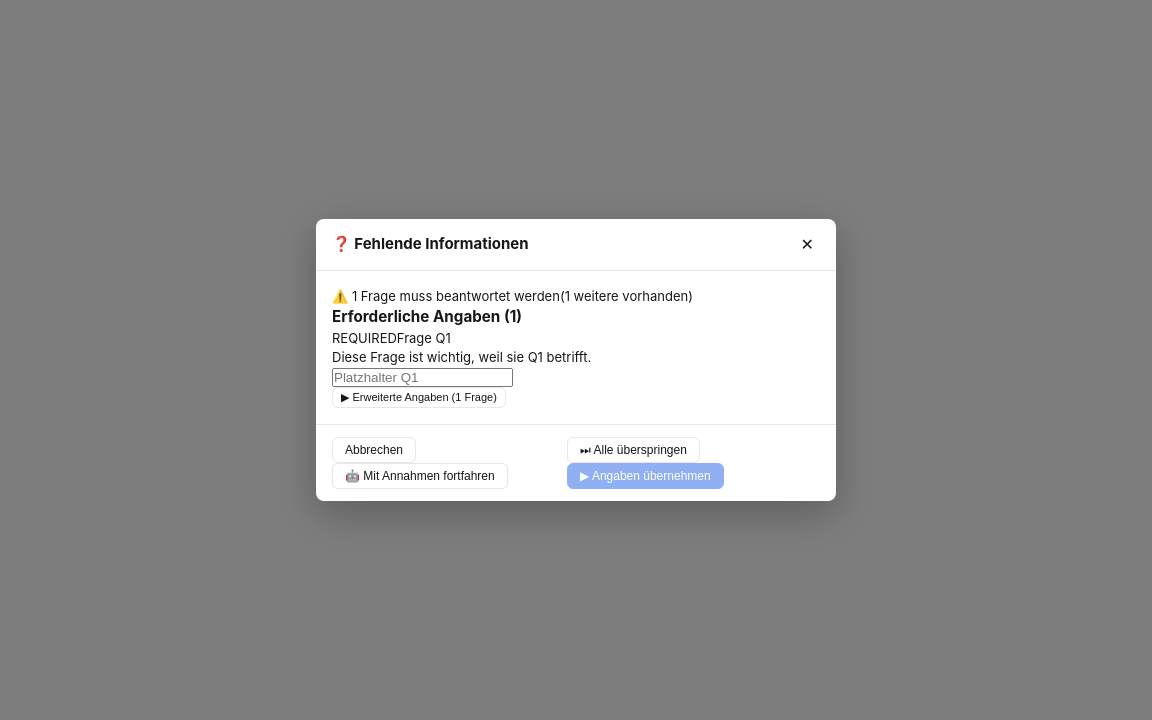
Scenario: MissingInfoGate › rendering › renders RECOMMENDED items under advanced section
Toggle it open
Click the button with test id "gate-toggle-advanced" at (419, 398), box [332,387,506,408]
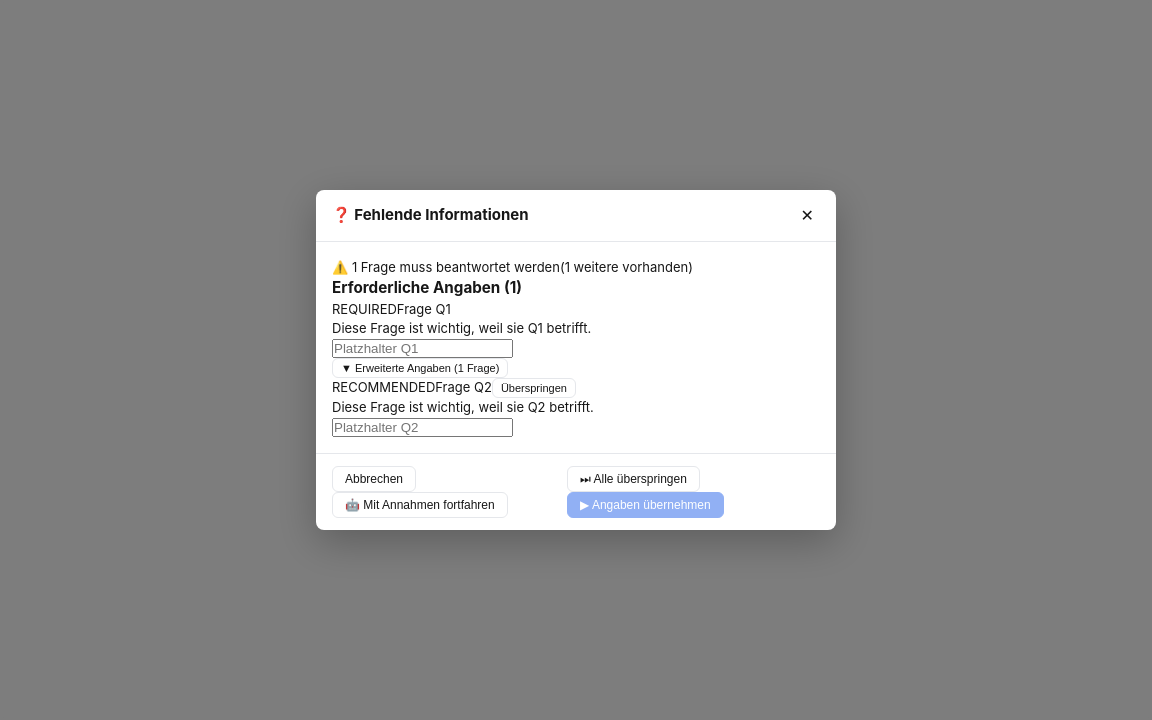
Now the element with test id "gate-question-Q2" is shown, box [332,378,594,437]
